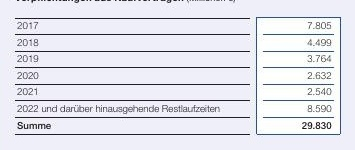table: (0, 0, 355, 150)
